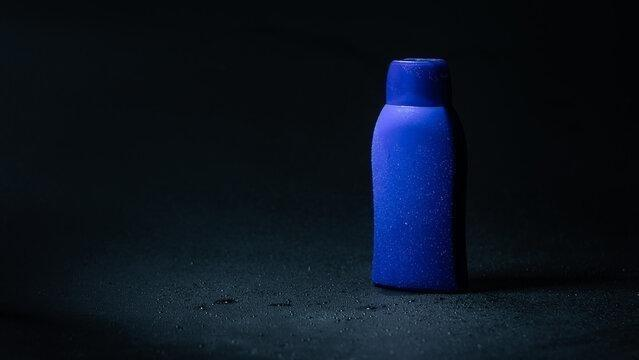gym bottle: (367, 54, 472, 295)
